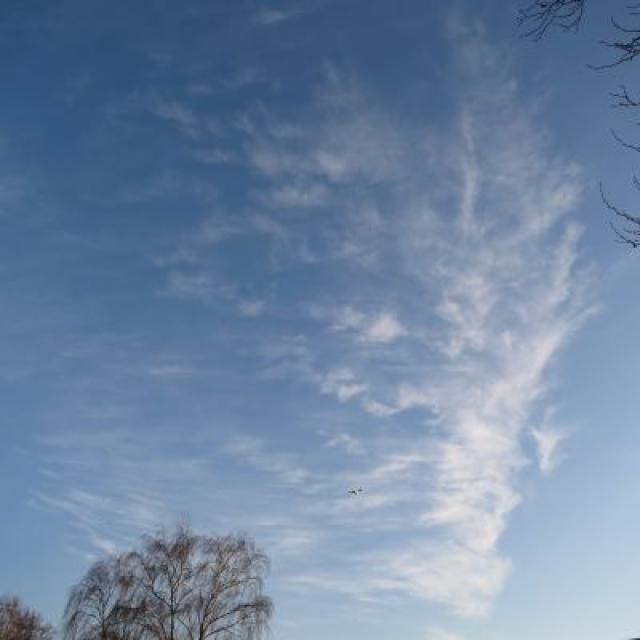Ct: (1, 28, 640, 439)
